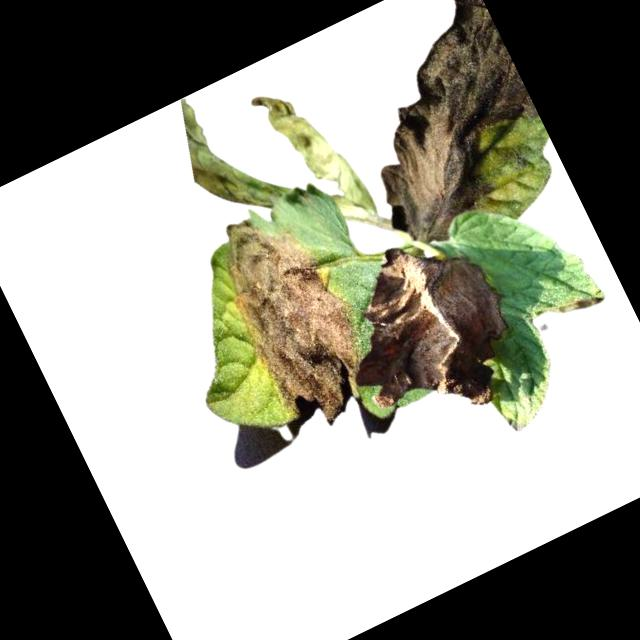Late_blight: (312, 1, 568, 254), (316, 211, 543, 449), (201, 191, 393, 438), (252, 70, 378, 236), (159, 79, 278, 226)
